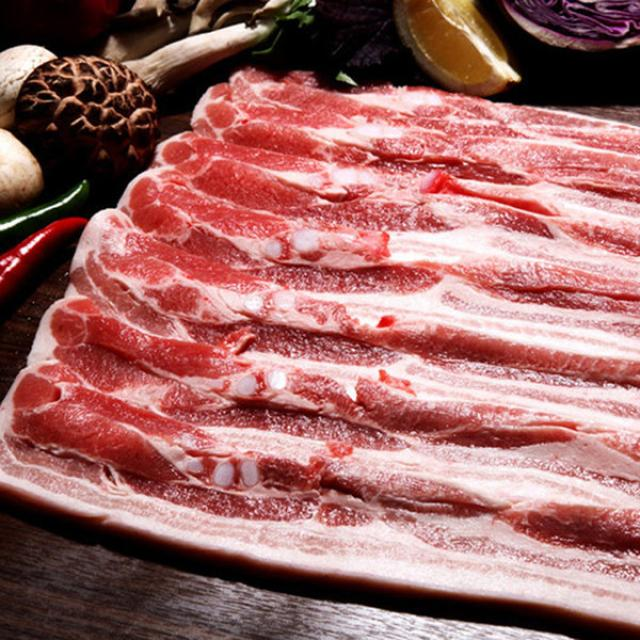pork: (39, 68, 640, 606)
